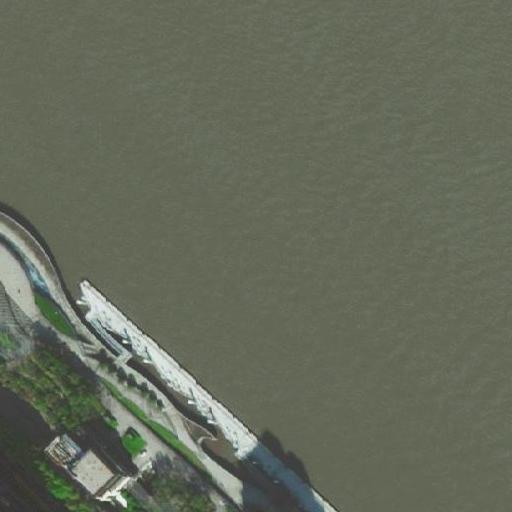building: (50, 428, 127, 499)
